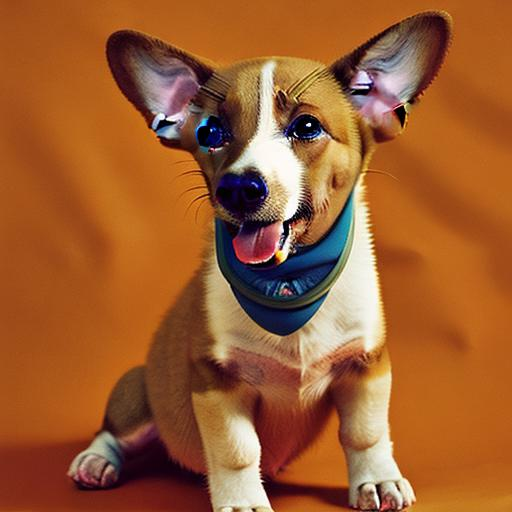eye: (278, 107, 334, 147), (195, 117, 239, 155)
